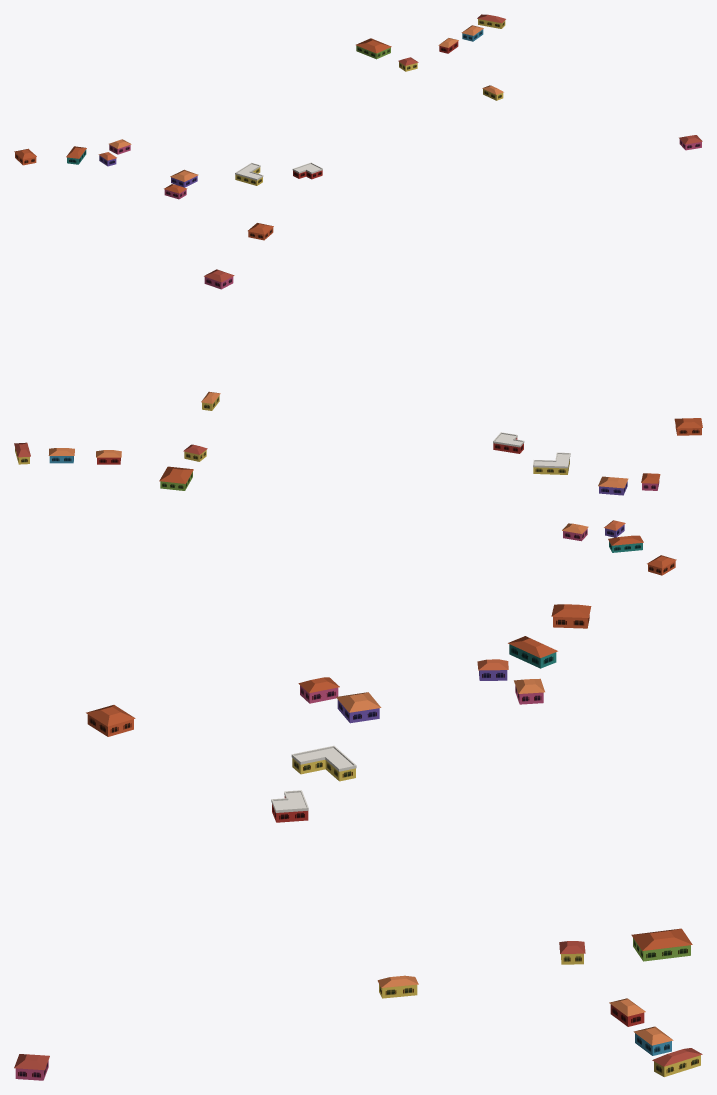
The model's file is msb_oranjestad_m10_7.glb.
3 renders of one model, top to bottom at view 1: azimuth 30°, elevation 25°; view 2: azimuth 150°, elevation 25°; view 3: azimuth 270°, elevation 25°, orthographic. The views are drawn at different scales.
Parts seen in each view (by area): view 1: msb_oranjestad_m10_7_lod0; view 2: msb_oranjestad_m10_7_lod0; view 3: msb_oranjestad_m10_7_lod0.
Part boxes in pixels (x1,y1,x2,y2): msb_oranjestad_m10_7_lod0: (14, 14, 702, 240); msb_oranjestad_m10_7_lod0: (14, 269, 702, 575); msb_oranjestad_m10_7_lod0: (14, 604, 702, 1080).
Size of what is drawn, in the model's own units: 310 by 9.31 by 195.
Materials: 3 (1 with a texture image).
